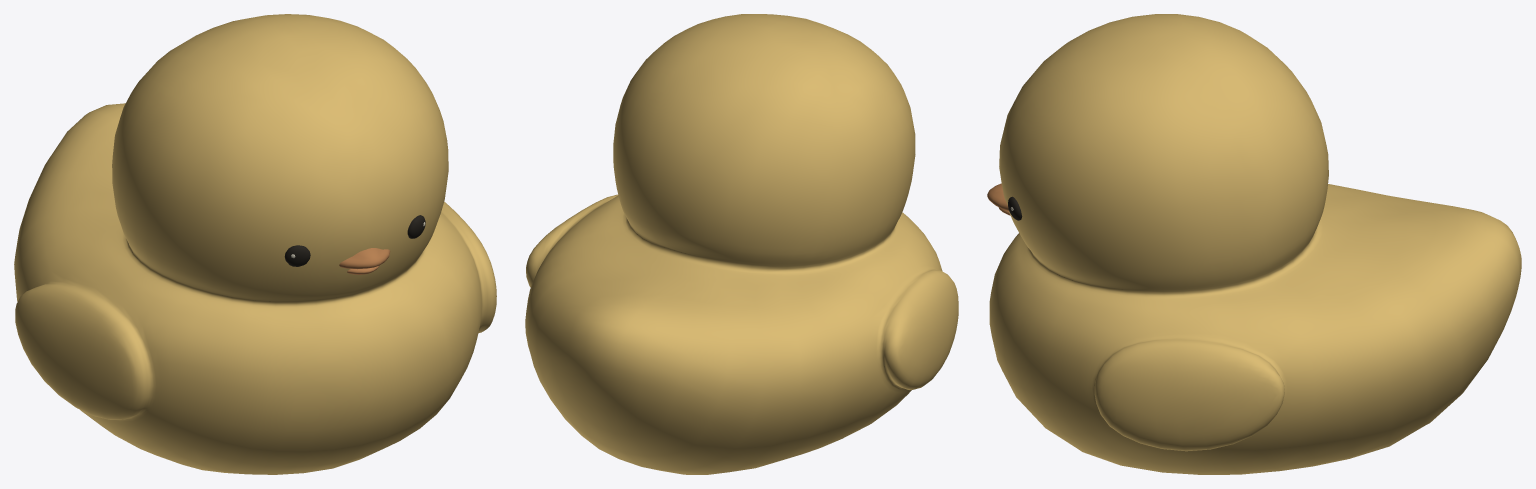
File: old-duck-toy.glb
The picture shows the model from 3 angles, left to right: view 1: azimuth 30°, elevation 25°; view 2: azimuth 150°, elevation 25°; view 3: azimuth 270°, elevation 25°; orthographic projection. The views are drawn at different scales.
Parts seen in each view (by area): view 1: Old childhood duck toy; view 2: Old childhood duck toy; view 3: Old childhood duck toy.
Part boxes in pixels (x1,y1,x2,y2): Old childhood duck toy: [14, 14, 496, 474]; Old childhood duck toy: [525, 14, 958, 474]; Old childhood duck toy: [987, 14, 1521, 474].
Bounding box in the file's own units: 1.04 × 1 × 1.19.
